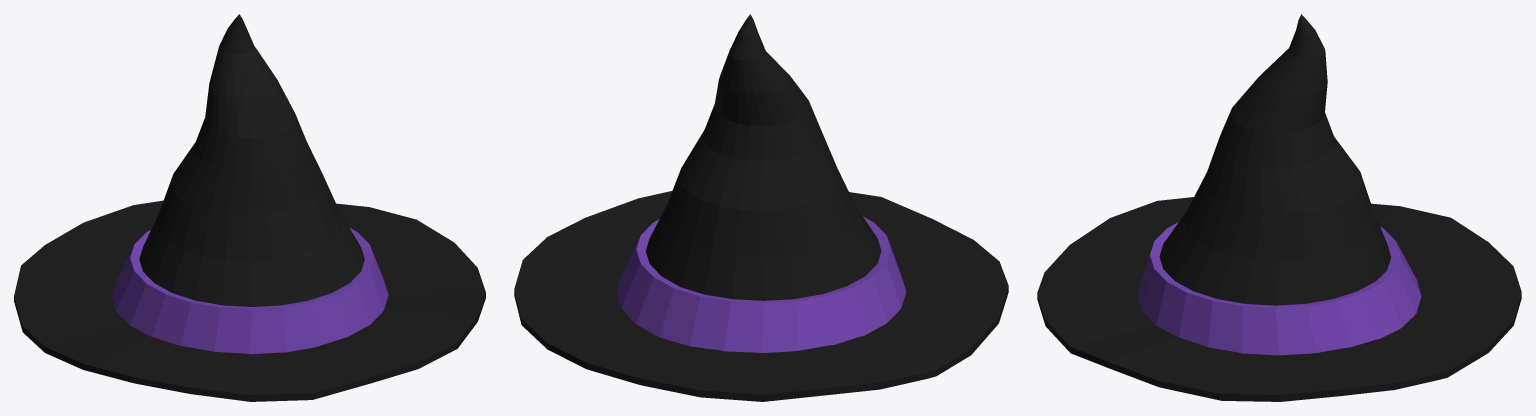
The model's file is BPW_WitchHat.fbx.
3 views of the same model, side by side, from view 1: azimuth 30°, elevation 25°; view 2: azimuth 150°, elevation 25°; view 3: azimuth 270°, elevation 25° (orthographic). The views are drawn at different scales.
Parts seen in each view (by area): view 1: Cone; view 2: Cone; view 3: Cone.
Part boxes in pixels (box(x1,y1,x2,y2)): Cone: box(14, 14, 485, 401); Cone: box(514, 14, 1008, 401); Cone: box(1037, 14, 1521, 401).
Size of the model in its own units: 690 by 469 by 692.
